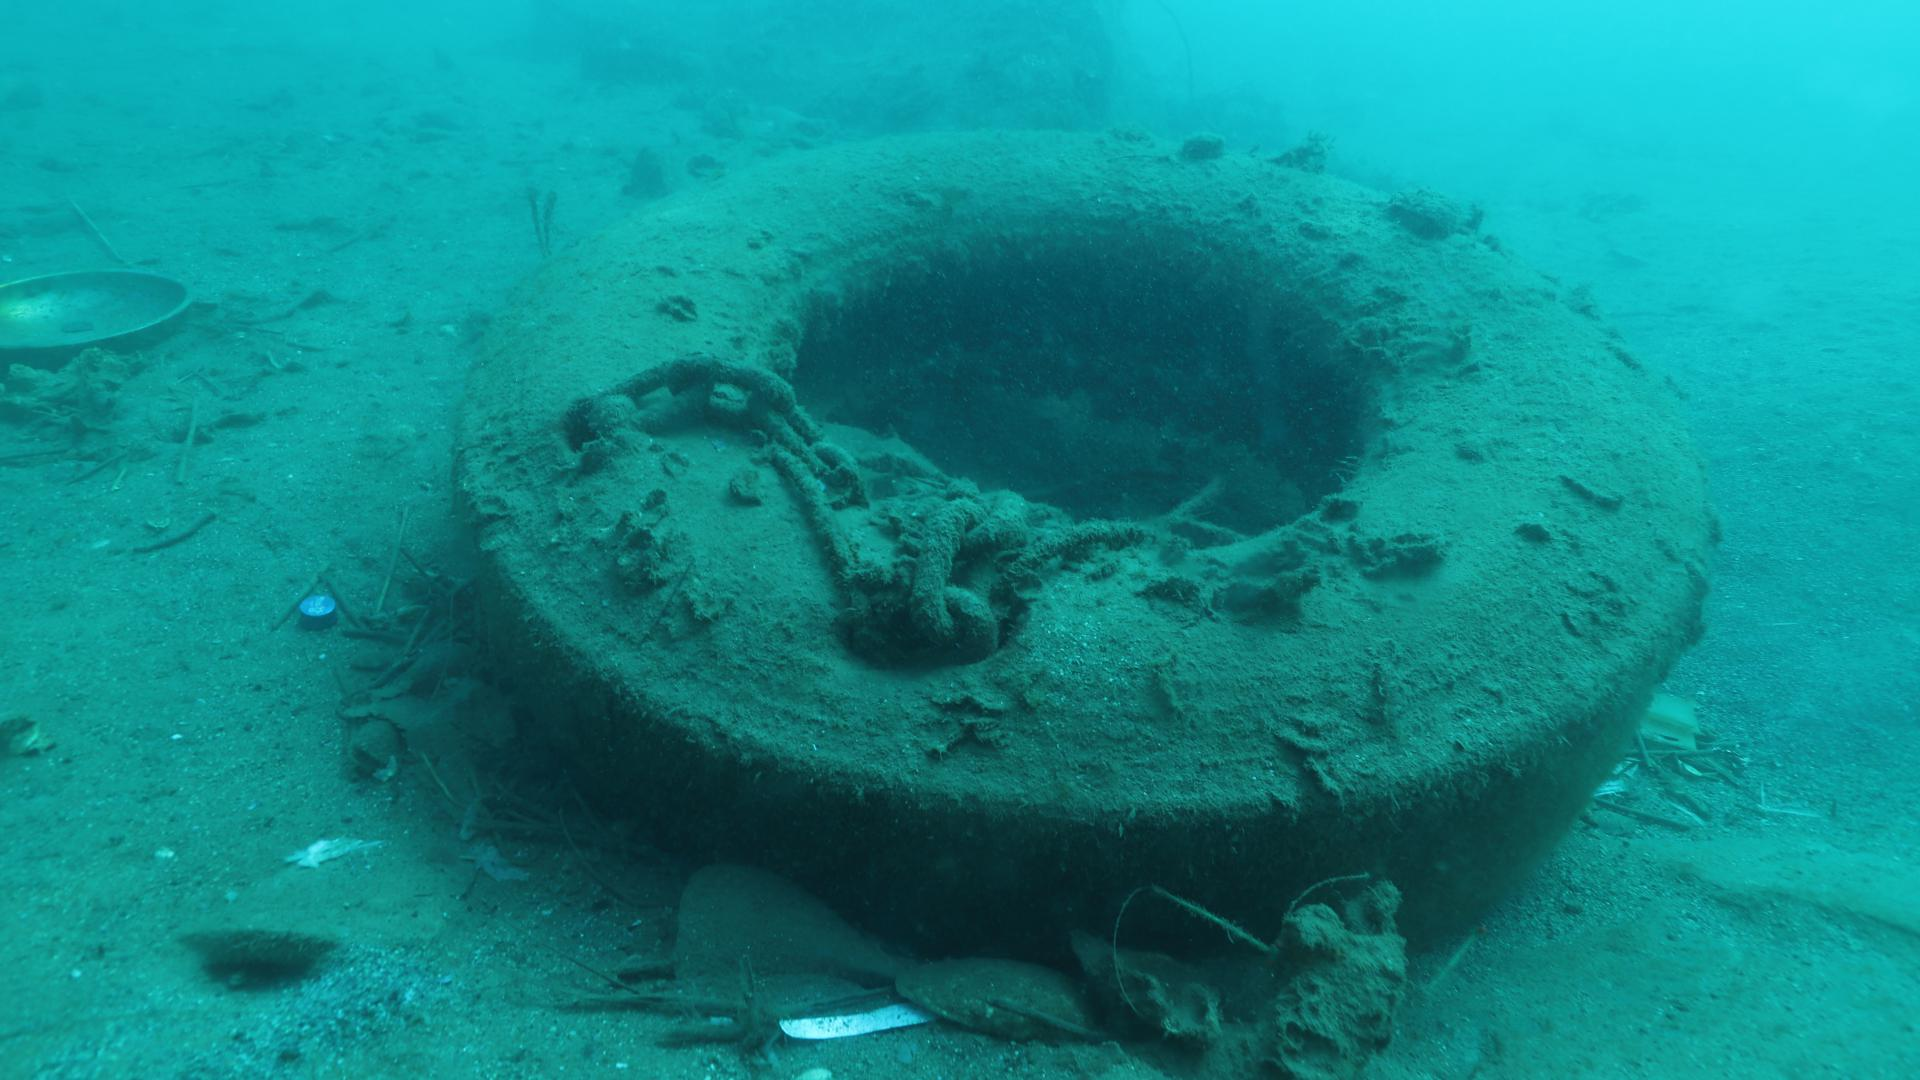tire: (458, 127, 1709, 951)
